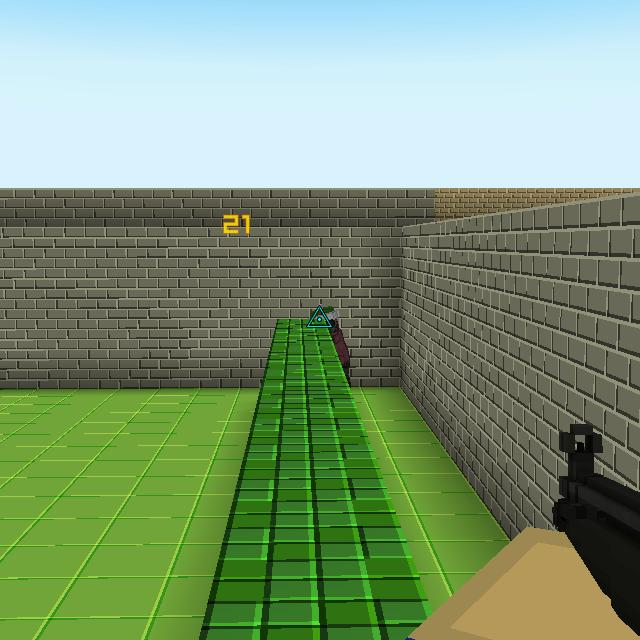enemy: (308, 302, 352, 388)
